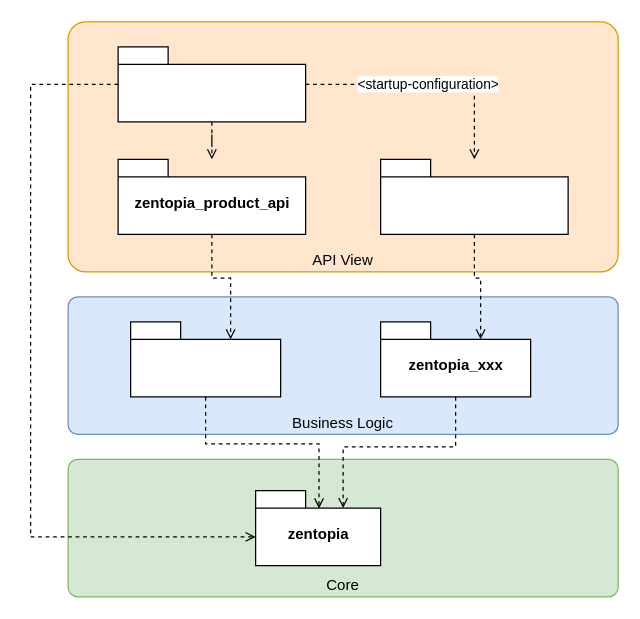
The diagram is 640 pixels wide and 619 high, and some of its shapes have lost their labels. The centre of each missing label's shape, as x and y in pixels:
zentopia_api: point 211,84
zentopia_product: point 205,359
zentopia_xxx_api: point 473,196
